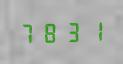eight: (39, 20, 59, 44)
one: (81, 19, 101, 42)
seven: (18, 21, 38, 44)
three: (60, 20, 80, 43)
